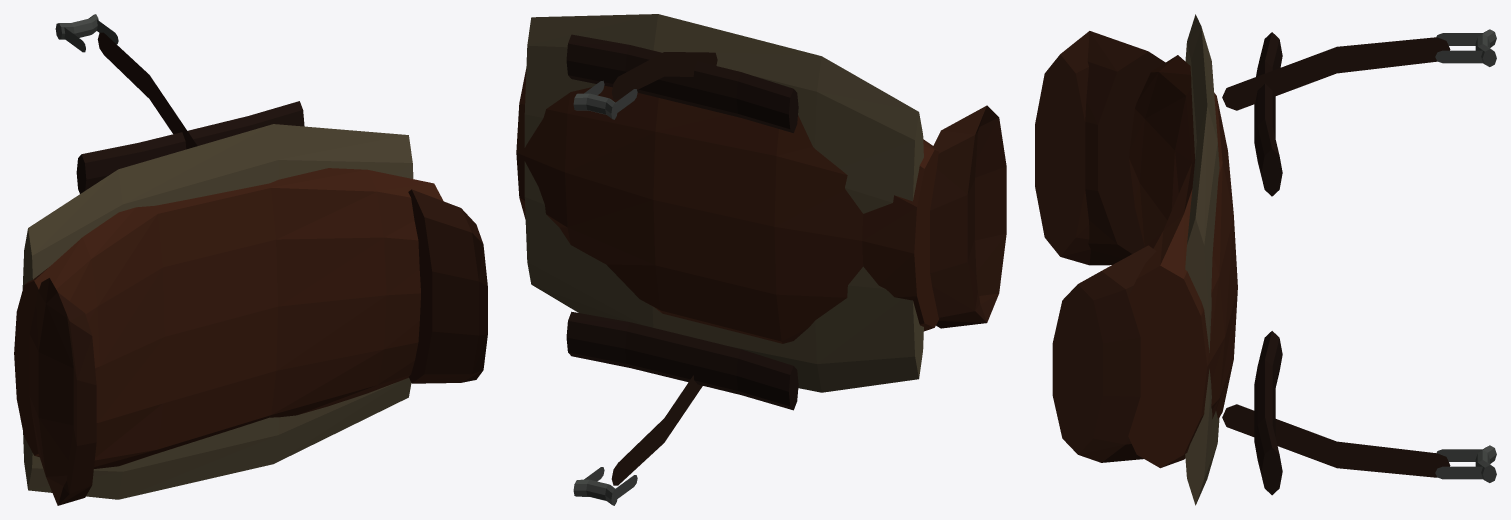
Rendered from saddle_LOD1.obj.
3 renders of one model, left to right at view 1: azimuth 30°, elevation 25°; view 2: azimuth 150°, elevation 25°; view 3: azimuth 270°, elevation 25°, orthographic. The views are drawn at different scales.
Bounding box in the file's own units: 0.89 × 0.826 × 0.7848.
